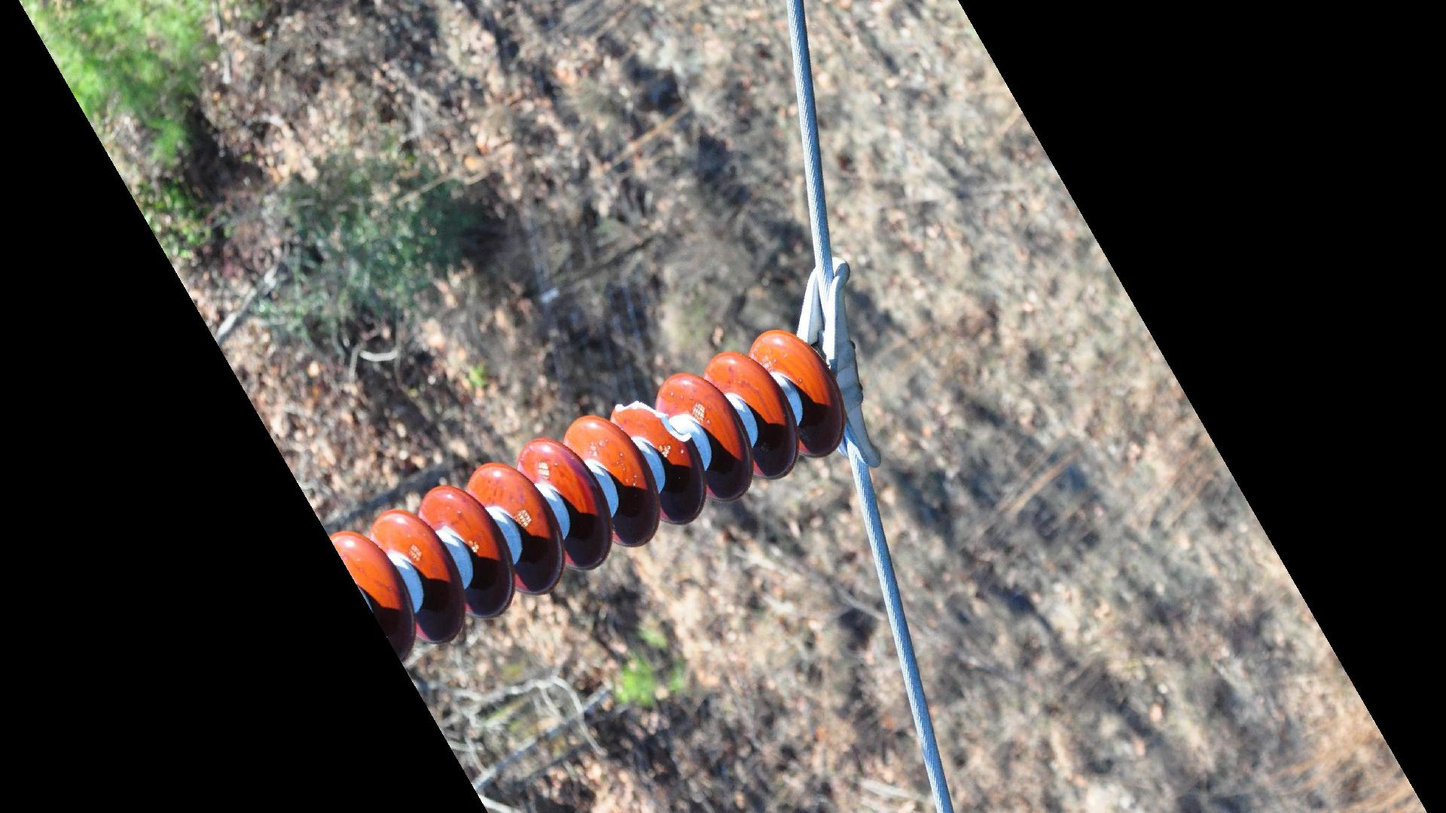insulator: (318, 321, 854, 668)
insulator_breakage: (608, 395, 697, 450)
